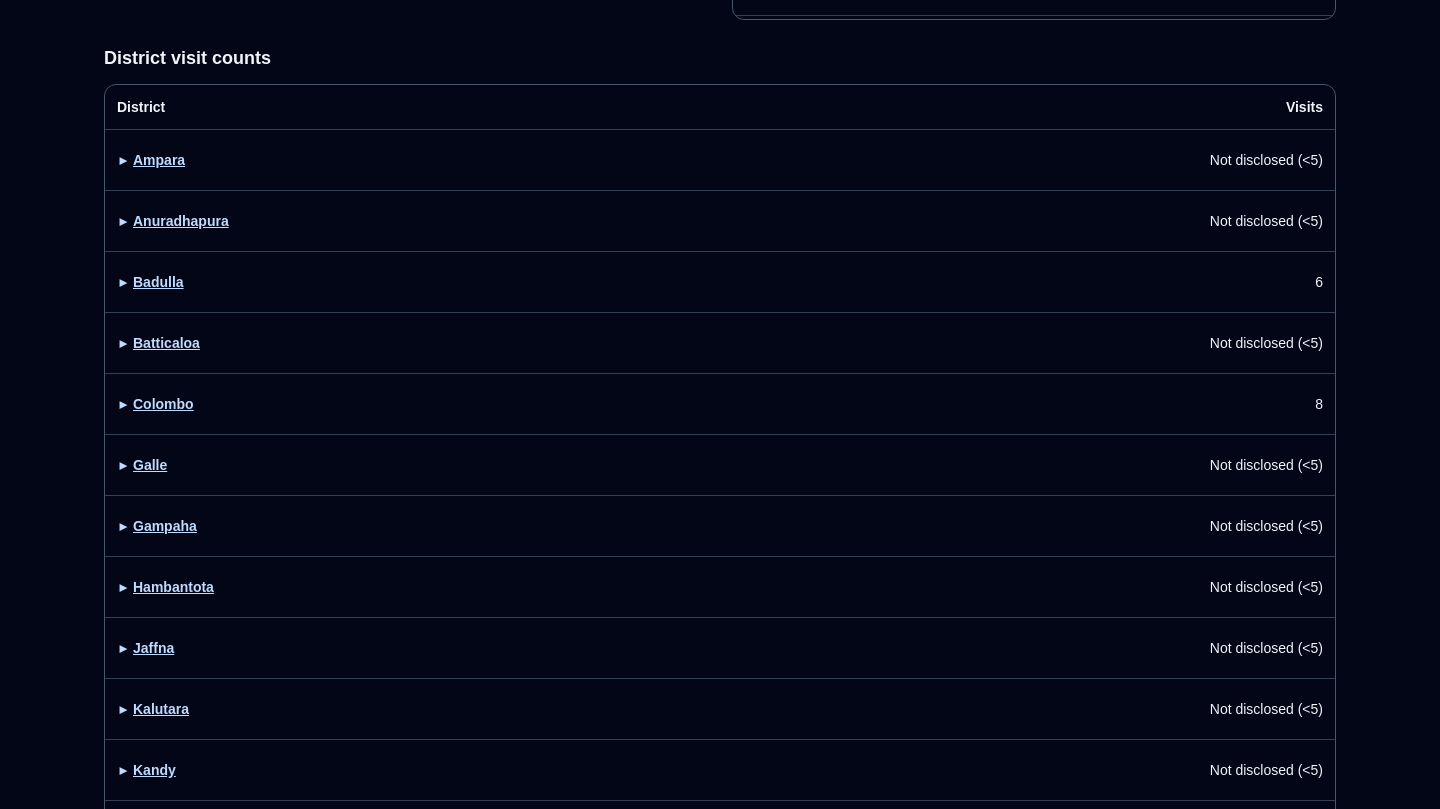
click expands a row directly under the district, click again closes; only one open; aria-expanded
The image size is (1440, 809).
(page scrolled)
Click the button "▸ Colombo": (155, 404) x1=113 y1=382 x2=198 y2=426
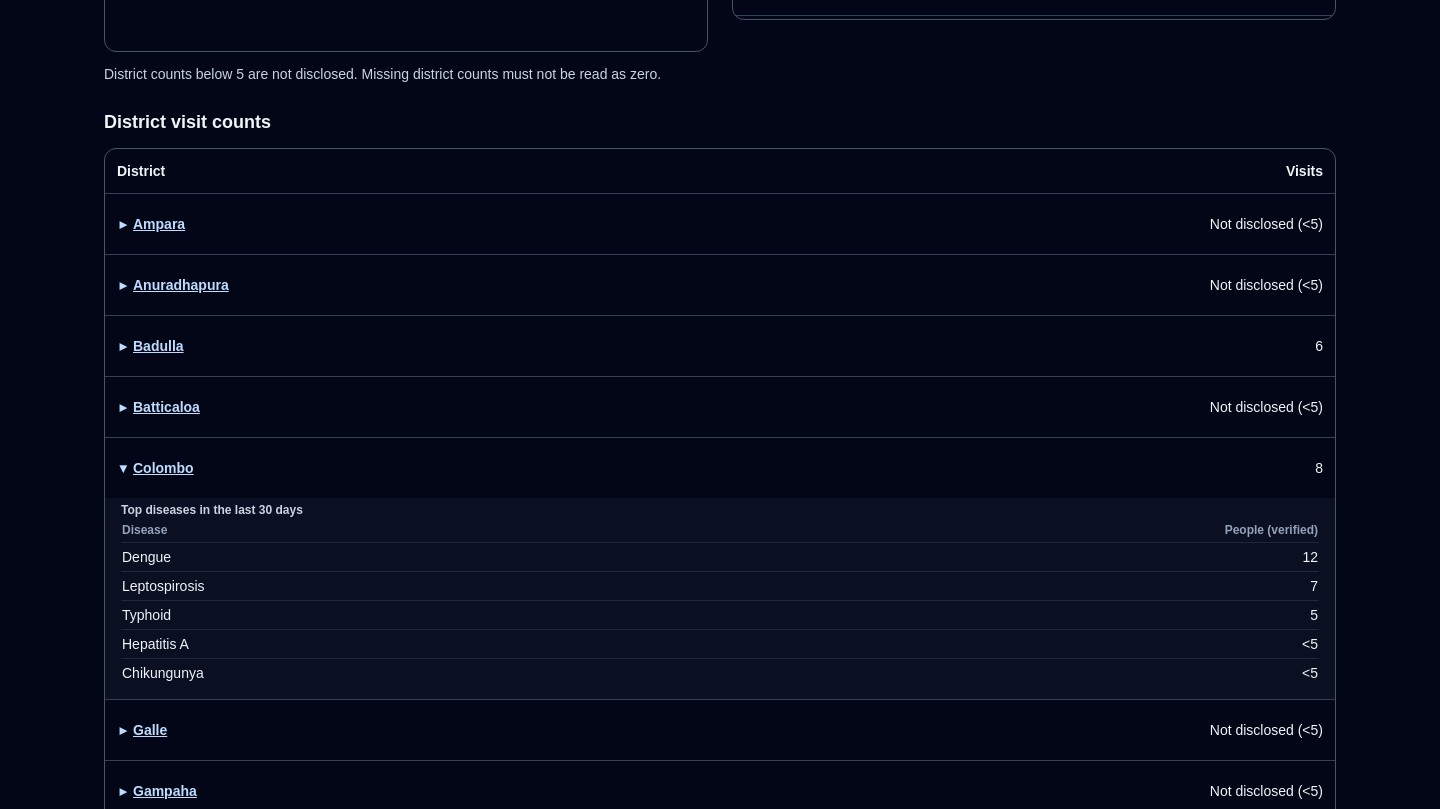
expect the button "▾ Colombo" is expanded: met, box x1=113 y1=446 x2=198 y2=490
expect the number of cells with test id "drilldown-count" is 5: met, box x1=684 y1=542 x2=1319 y2=572; x1=684 y1=572 x2=1319 y2=600; x1=684 y1=600 x2=1319 y2=630; x1=684 y1=630 x2=1319 y2=658; x1=684 y1=658 x2=1319 y2=687
Opening another district closes the first.
Click the button "▸ Badulla": (150, 346) x1=113 y1=324 x2=188 y2=368
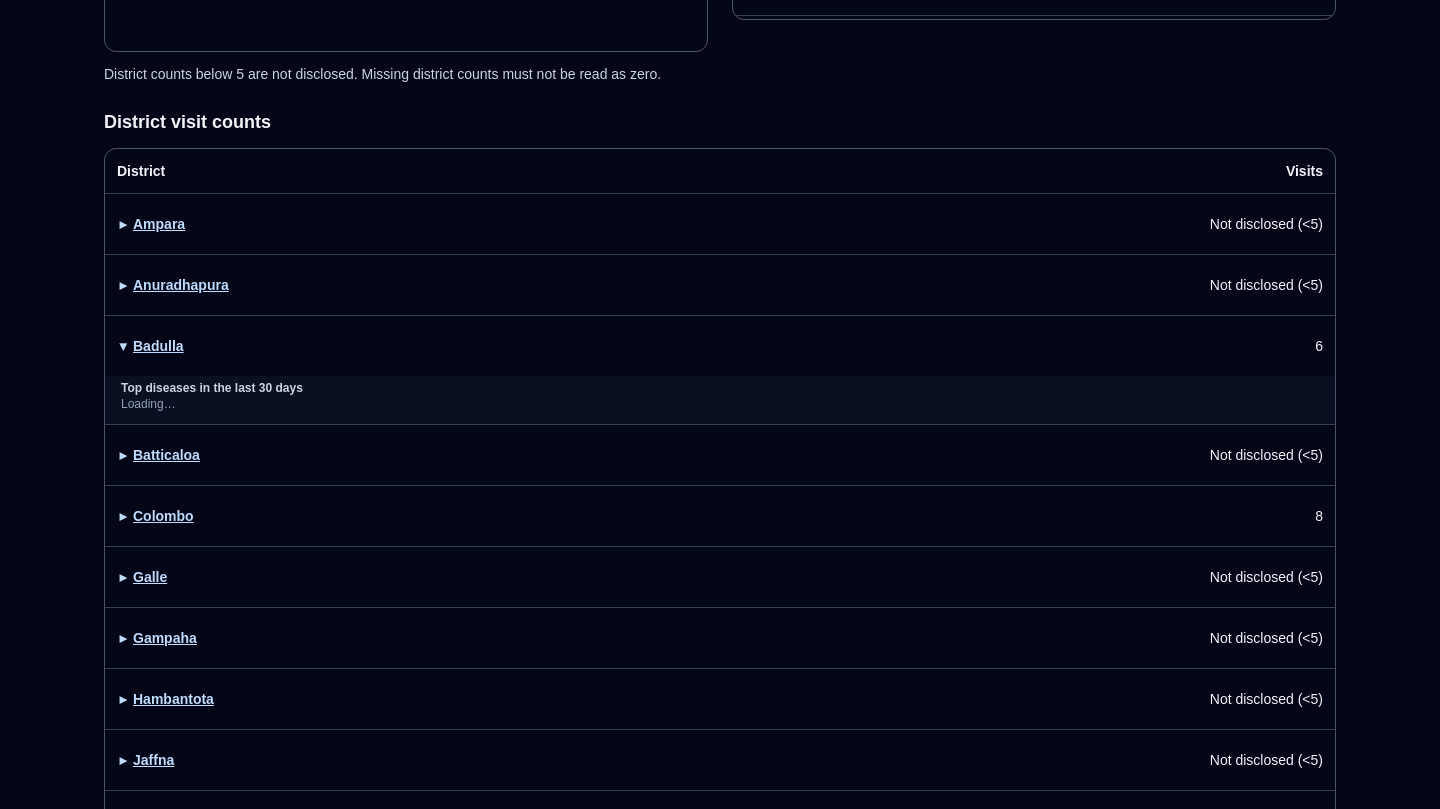
expect the button "▸ Colombo" is collapsed: met, box x1=113 y1=494 x2=198 y2=538
expect the button "▾ Badulla" is expanded: met
expect the number of rows with test id "district-drilldown-row" is 1: met, box x1=105 y1=376 x2=1335 y2=424
Click again closes it.
Click the button "▾ Badulla": (150, 346) x1=113 y1=324 x2=188 y2=368
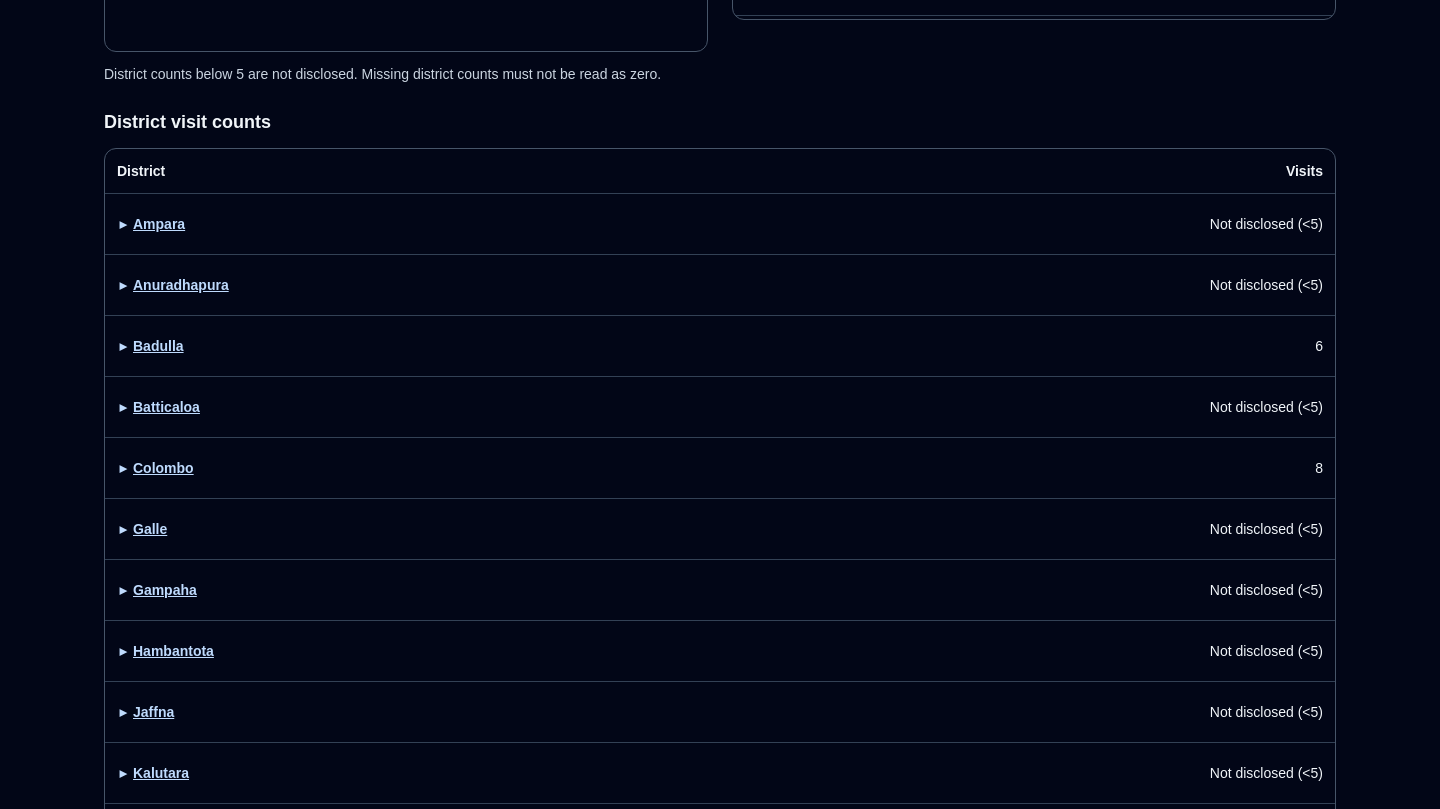
expect the button "▸ Badulla" is collapsed: met, box x1=113 y1=324 x2=188 y2=368
expect the row with test id "district-drilldown-row" is gone: met
